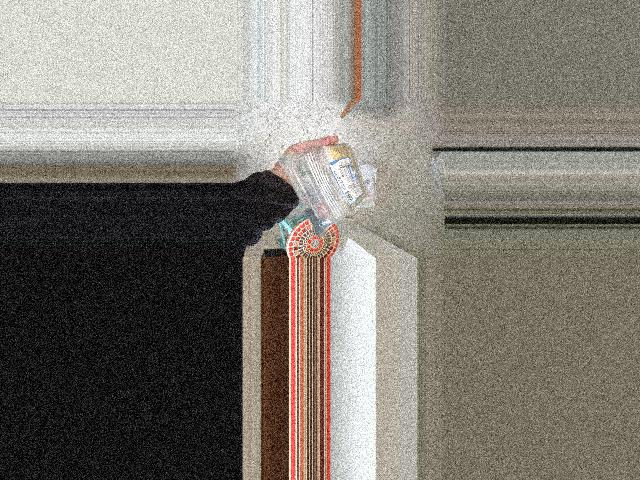cheese: (278, 145, 384, 241)
